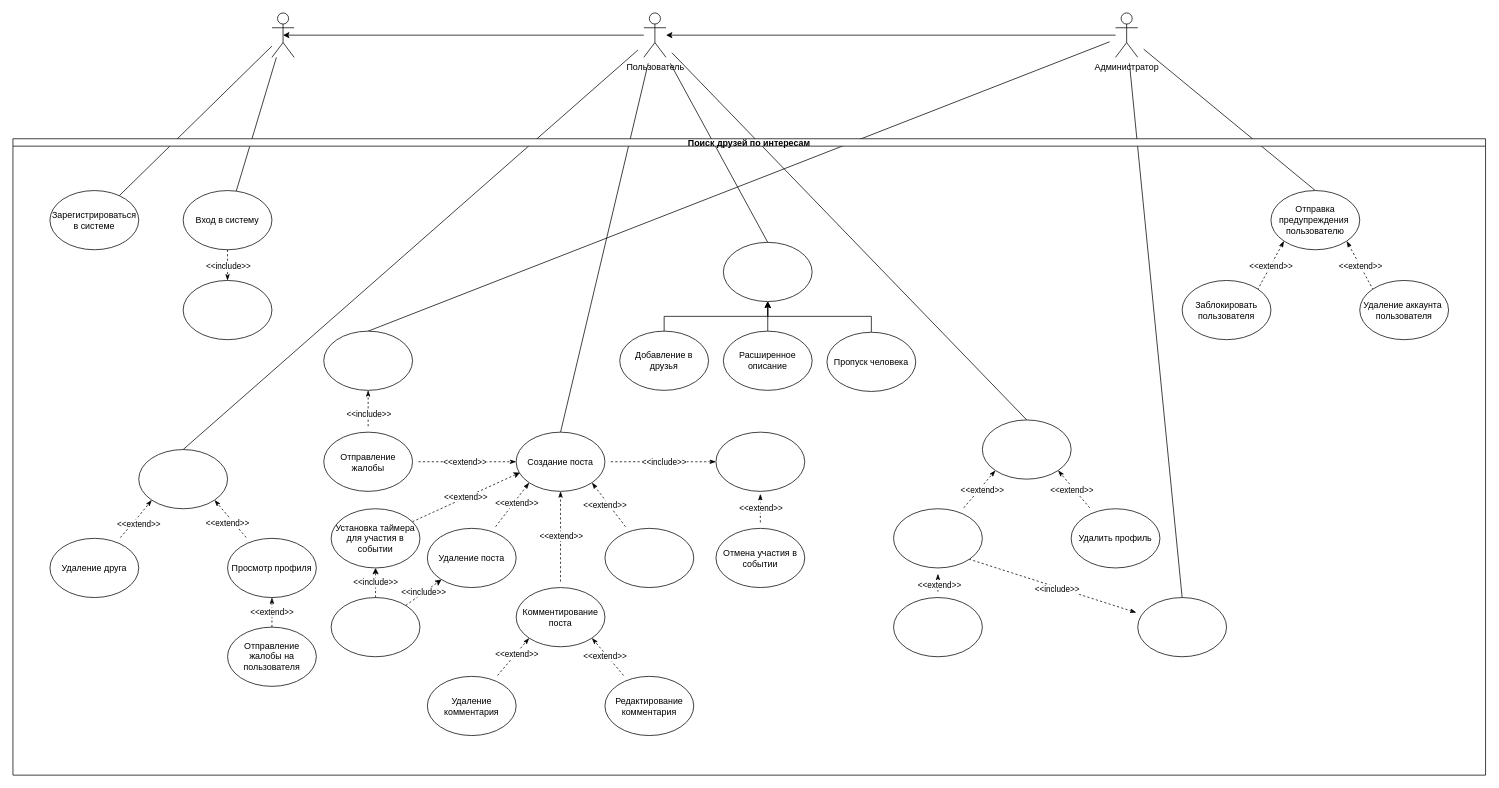
This 1499x788 diagram has some shape labels left out. Each missing label, with the centre of its shape:
"Выход из профиля" belongs at (x=227, y=310).
"Закрытие участия в событие" belongs at (x=375, y=627).
"Незарегистрированный пользователь" belongs at (x=282, y=34).
"Подтверждение участия в событие" belongs at (x=760, y=461).
"Поиск друга" belongs at (x=767, y=272).
"Посмотреть список друзей" belongs at (x=183, y=479).
"Проверка админом созданного увлечения" belongs at (x=1182, y=627).
"Проверка поста" belongs at (x=368, y=360).
"Редактирование поста" belongs at (x=649, y=558).
"Редактирование увлечения" belongs at (x=937, y=627).
"Редактировать профиль" belongs at (x=1026, y=449).
"Создание увлечения" belongs at (x=937, y=538).
